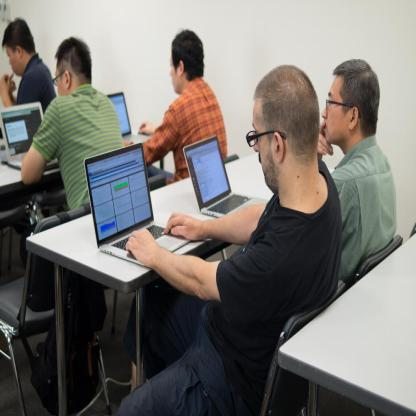board: (78, 132, 155, 278), (182, 134, 269, 219), (0, 99, 58, 170), (106, 90, 151, 144)
